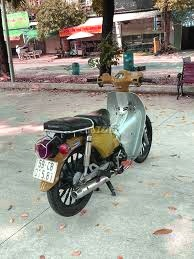Bien-so: (28, 154, 57, 184)
